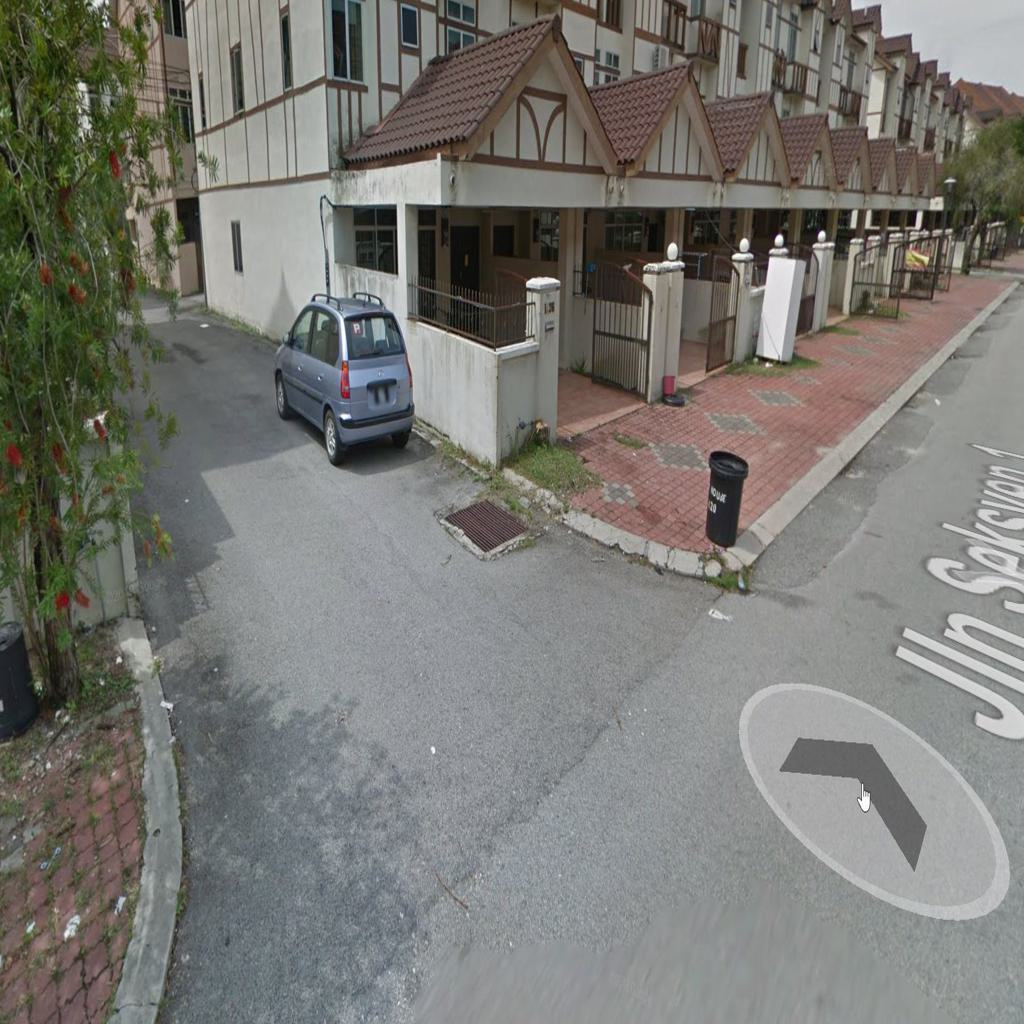Junction: (129, 440, 737, 970)
